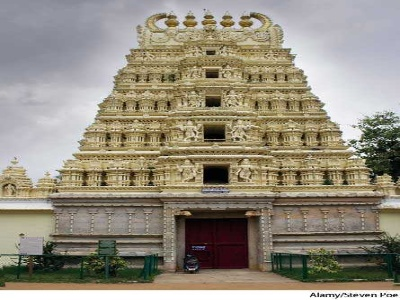gopura: (47, 24, 384, 193)
